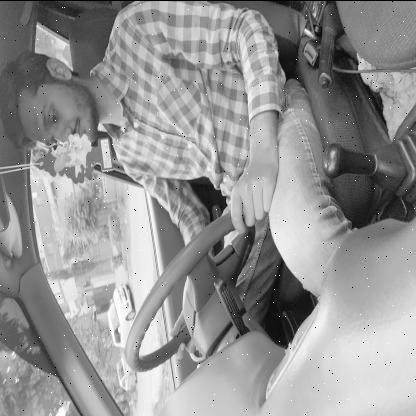no_seatbelt: (4, 61, 220, 193)
